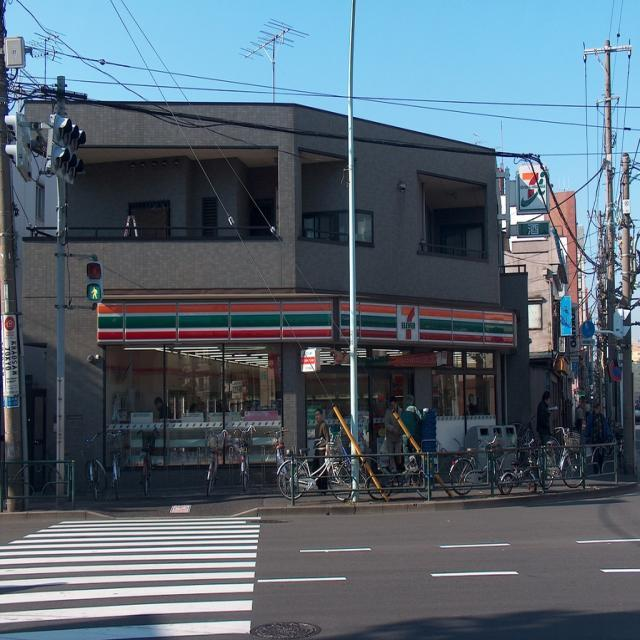traffic light: (82, 262, 104, 303)
